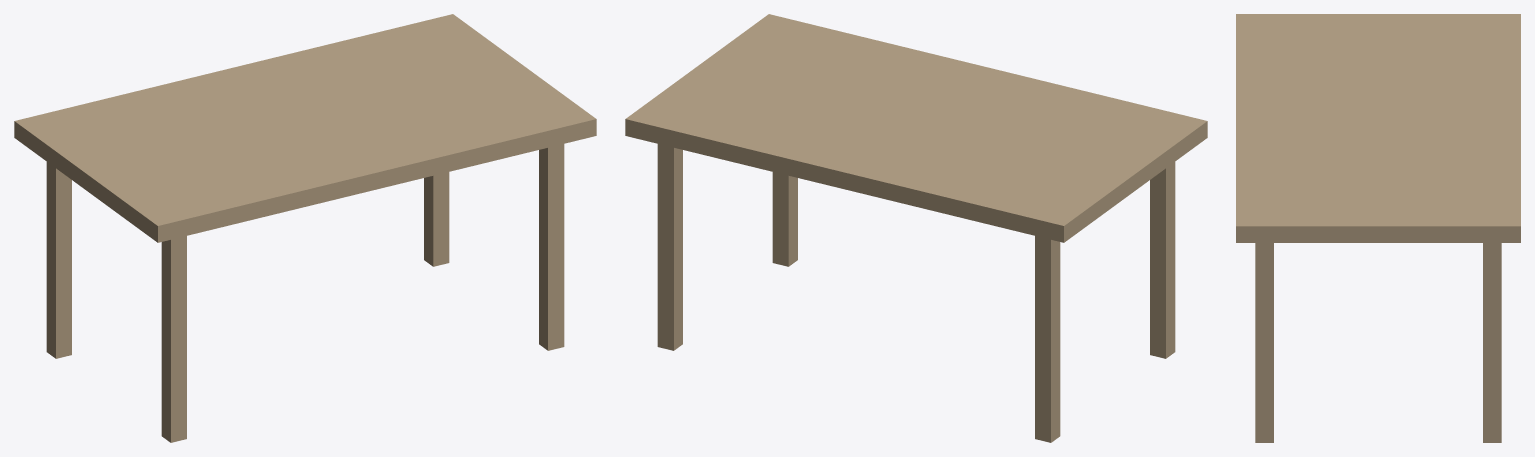
File: dining_table.glb
3 views of the same model, side by side, from view 1: azimuth 30°, elevation 25°; view 2: azimuth 150°, elevation 25°; view 3: azimuth 270°, elevation 25° (orthographic).
Visible parts, largest first — view 1: dining_table_top, dining_table_leg_1_1, dining_table_leg_0_1, dining_table_leg_0_0, dining_table_leg_1_0; view 2: dining_table_top, dining_table_leg_1_0, dining_table_leg_0_0, dining_table_leg_0_1, dining_table_leg_1_1; view 3: dining_table_top, dining_table_leg_1_0, dining_table_leg_1_1.
Part boxes in pixels (box(x1,y1,x2,y2)): dining_table_top: box(14, 14, 596, 242); dining_table_leg_1_1: box(539, 144, 564, 350); dining_table_leg_0_1: box(161, 236, 186, 442); dining_table_leg_0_0: box(46, 162, 71, 358); dining_table_leg_1_0: box(424, 172, 449, 266); dining_table_top: box(625, 14, 1207, 242); dining_table_leg_1_0: box(657, 144, 682, 350); dining_table_leg_0_0: box(1035, 236, 1060, 442); dining_table_leg_0_1: box(1150, 162, 1175, 358); dining_table_leg_1_1: box(772, 172, 797, 266); dining_table_top: box(1236, 14, 1520, 242); dining_table_leg_1_0: box(1483, 243, 1501, 442); dining_table_leg_1_1: box(1255, 243, 1273, 442).
Size of the model in its own units: 1.5 by 0.75 by 0.85.
